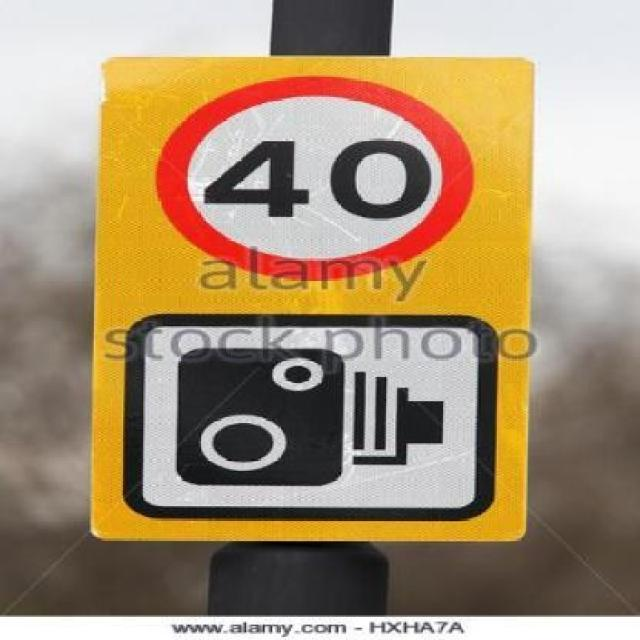forb_speed_over_40: (160, 79, 469, 276)
